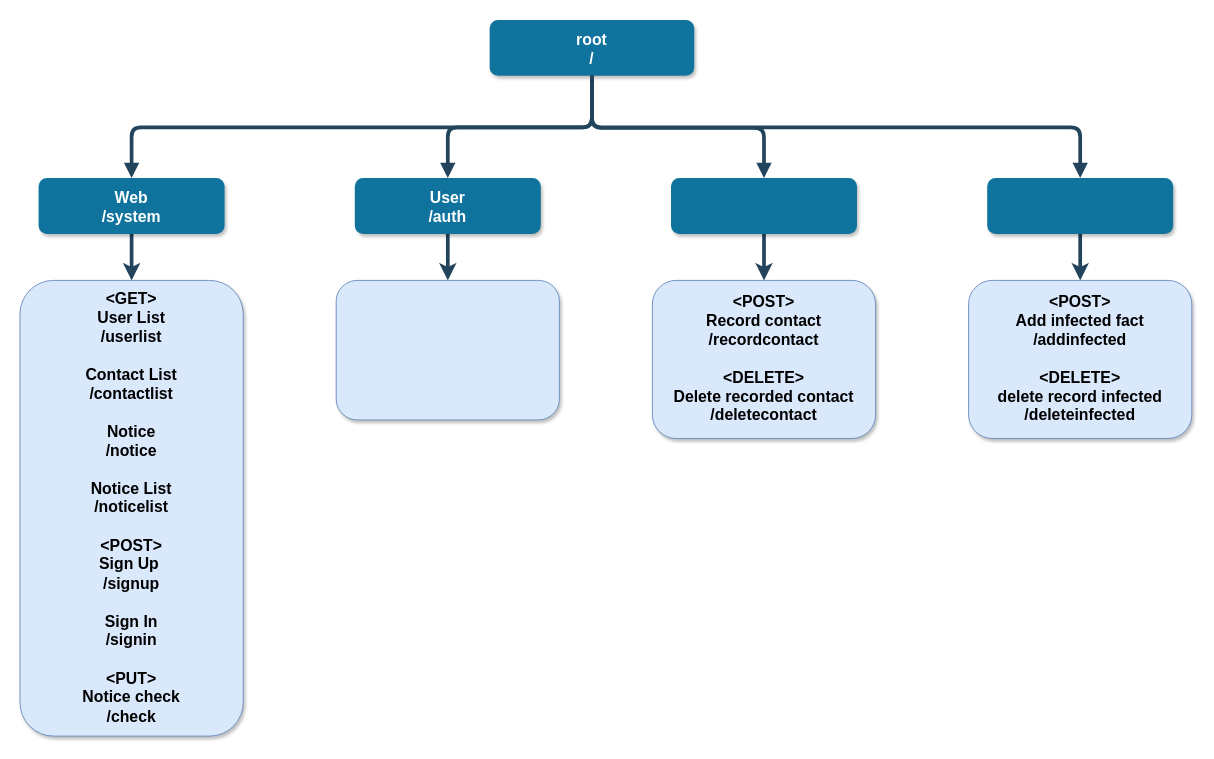
The diagram is 1214 pixels wide and 759 high, and some of its shapes have lost their labels. Here are the shapes that lost their labels. From the top down, the centre of each, then its label:
the point at 764,207: Contact /contact
the point at 1080,207: Infected /infected
the point at 448,351: <POST> Sign Up /signup Sign In /signin
